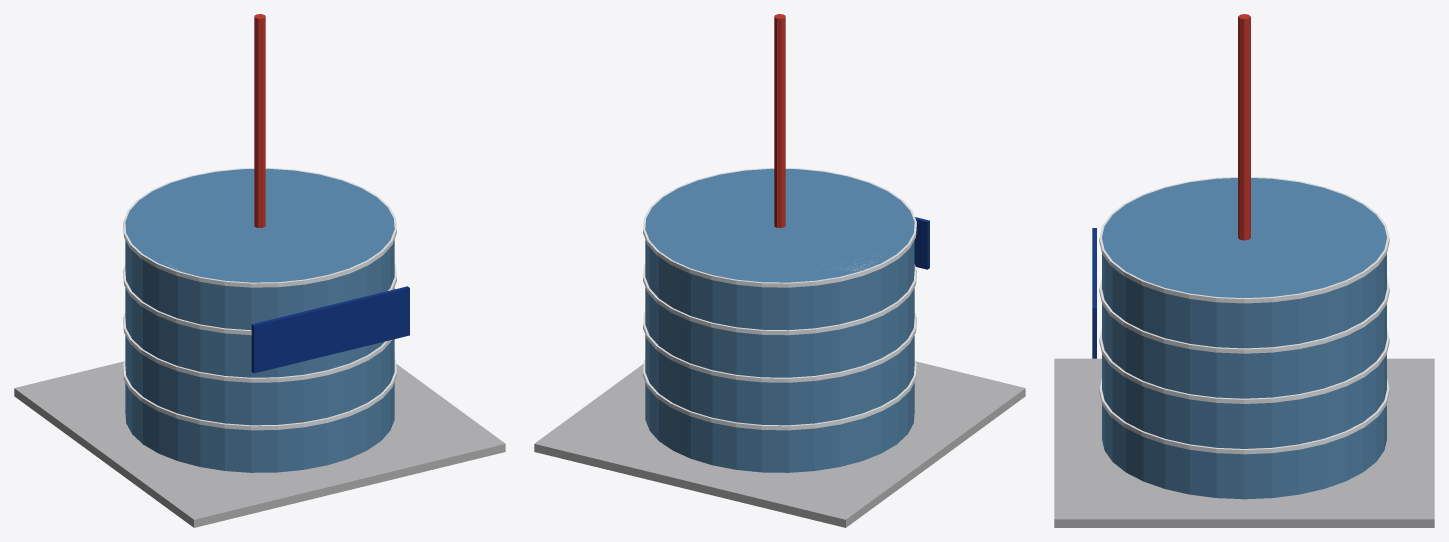
File: dsa_hq.glb
The picture shows the model from 3 angles, left to right: view 1: azimuth 30°, elevation 25°; view 2: azimuth 150°, elevation 25°; view 3: azimuth 270°, elevation 25°; orthographic projection. The views are drawn at different scales.
Visible parts, largest first — view 1: box; view 2: box; view 3: box.
Boxes of the visible parts, x1,y1,x2,y2 form: box: [14, 14, 505, 527]; box: [534, 14, 1025, 527]; box: [1054, 14, 1434, 527].
Size of the model in its own units: 24 by 30 by 24.
